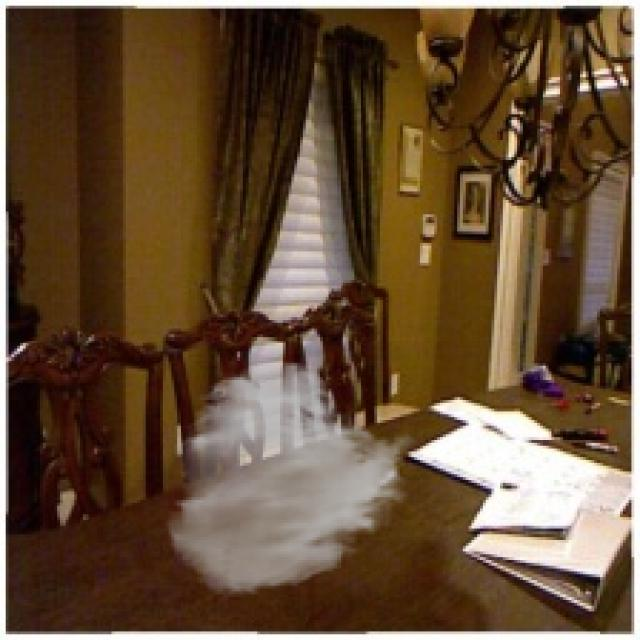smoke: (163, 357, 417, 597)
